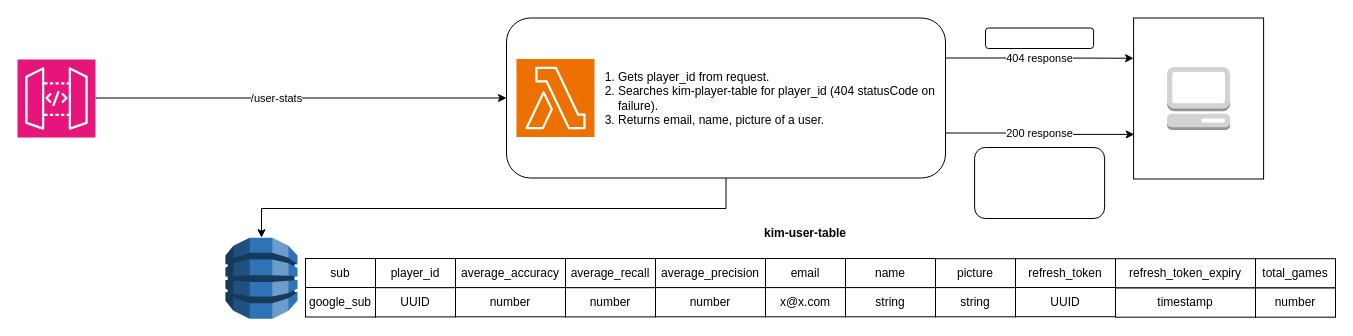
The diagram is 1353 pixels wide and 336 high, and some of its shapes have lost their labels. Each missing label, with the box of its shape:
"<error message>": (984, 27, 1094, 48)
"email": x@x.com "name": string "picture": url: (974, 146, 1105, 218)
Client: (1166, 66, 1230, 130)
